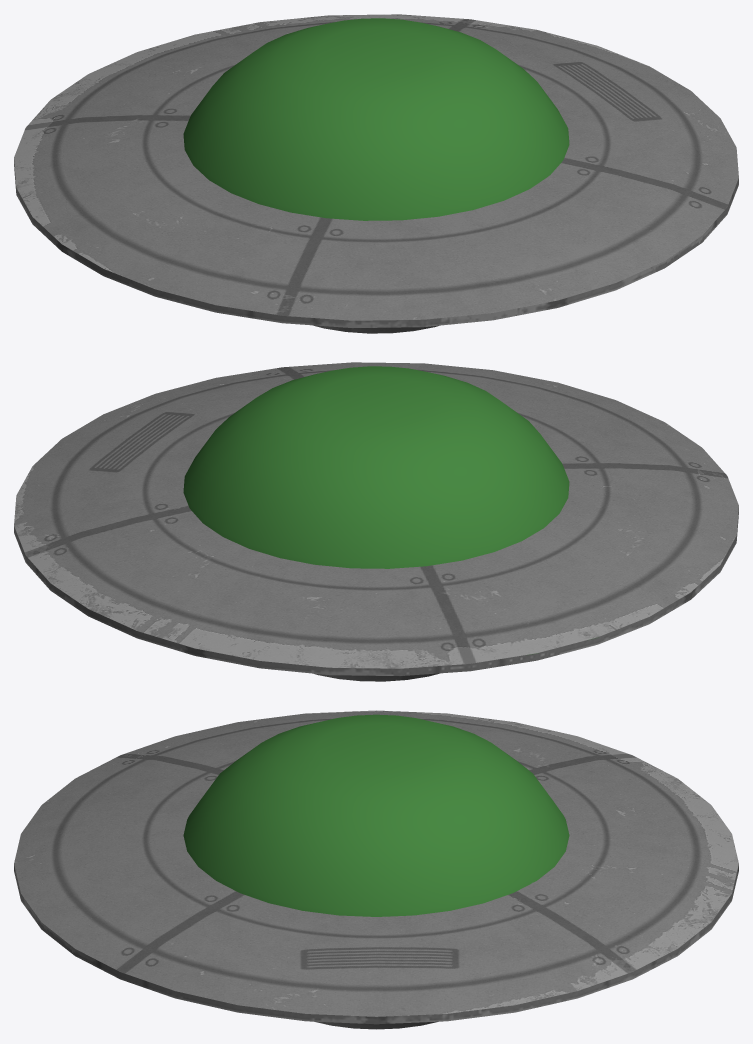
File: UFO.glb
3 views of the same model, one above another, from view 1: azimuth 30°, elevation 25°; view 2: azimuth 150°, elevation 25°; view 3: azimuth 270°, elevation 25° (orthographic).
Visible parts, largest first — view 1: UFO; view 2: UFO; view 3: UFO.
Part boxes in pixels (box(x1,y1,x2,y2)): UFO: box(14, 14, 738, 333); UFO: box(14, 362, 738, 681); UFO: box(14, 710, 738, 1029).
Size of the model in its own units: 4.08 by 1.48 by 4.08.
Materials: 1 (1 with a texture image).
